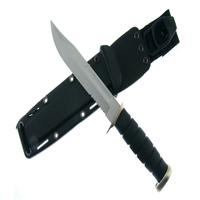knife: (46, 15, 174, 188)
